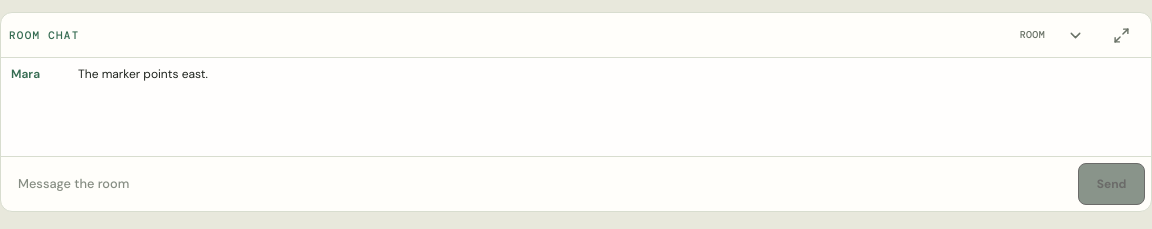
Scenario: RoomChatPanel message polling › does not skip another speaker message arriving before the send acknowledgement
Expected: the text "The marker points east." is shown, [78, 66, 208, 82]
Type "Hello" into the field labelled "Message the room".
click(540, 184); type("Hello")  # box [7, 163, 1072, 205]
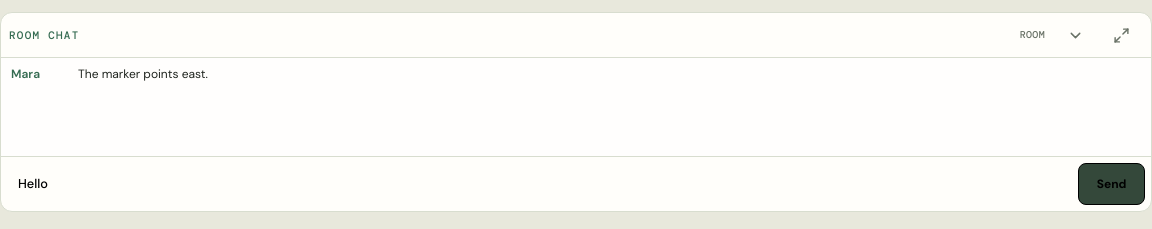
Submit the form named "Message the room", box [1, 156, 1151, 211]
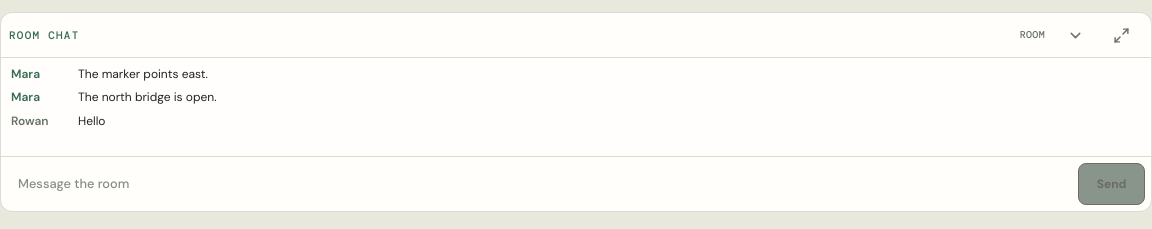
Expected: the text "The north bridge is open." is shown, [78, 89, 216, 105]
Expected: the text "Hello" is shown once, [78, 113, 106, 129]
